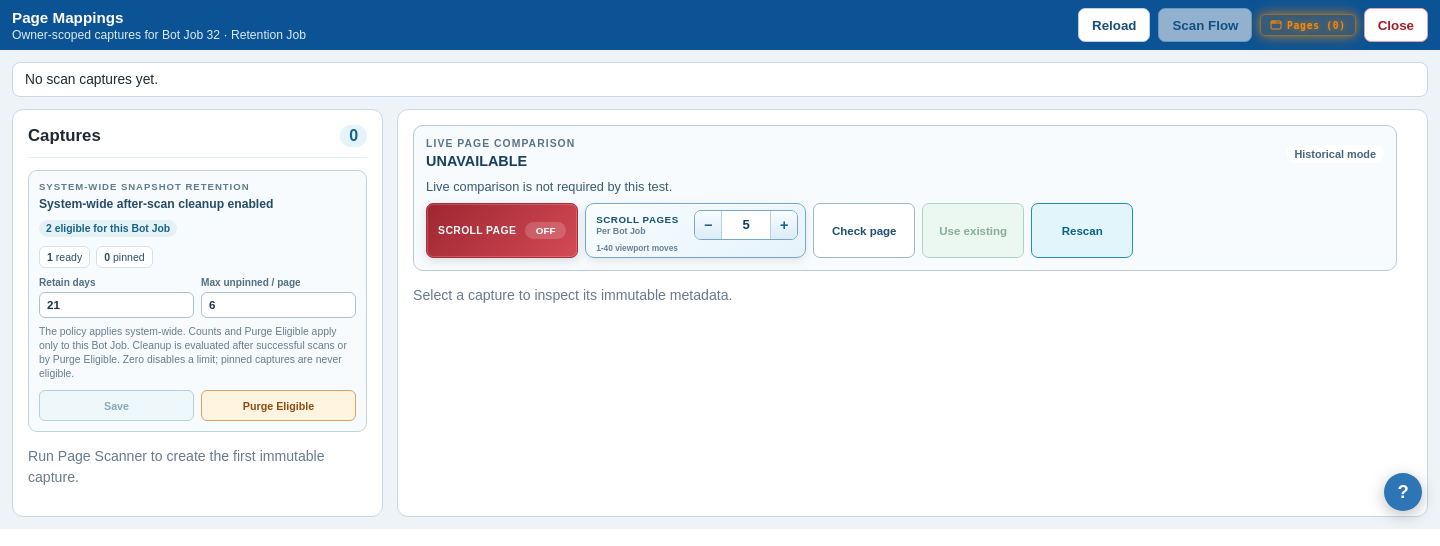
Test case: requires confirmation and sends the authoritative expected policy when purging
Expected: the button "Reload" is enabled, [1078,8,1150,42]
Click the button "Purge Eligible" at (279, 406), box [201,390,356,421]
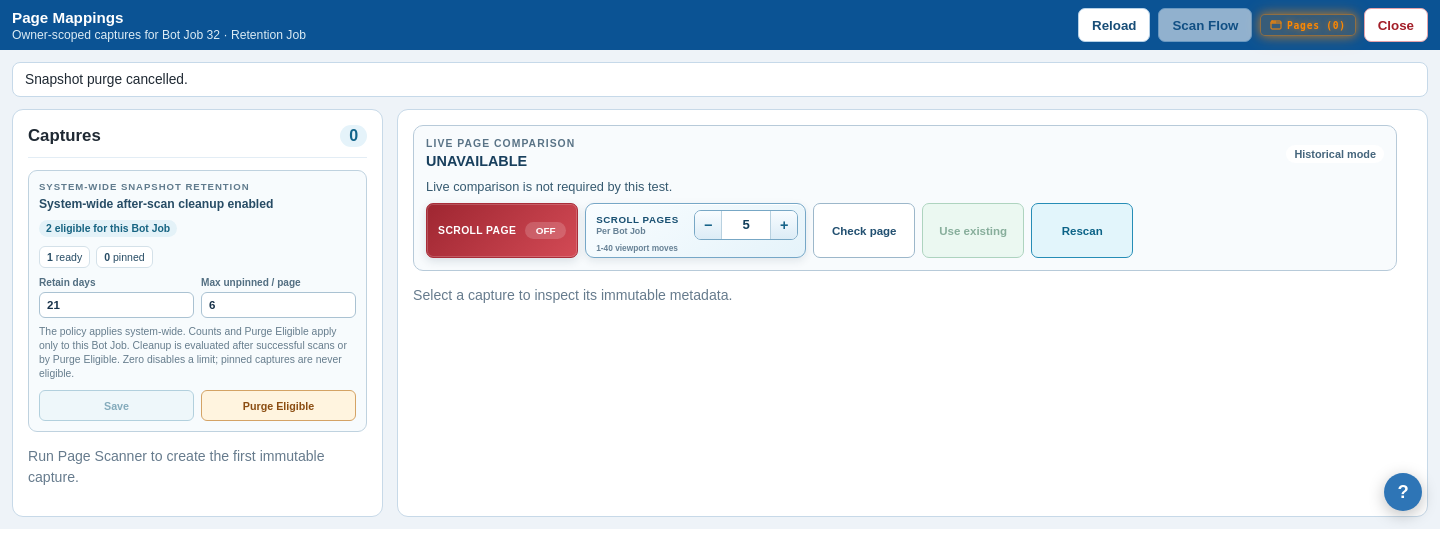
Result: the message reads "Snapshot purge cancelled." at [25,72,188,87]
Click the button "Purge Eligible" at (279, 406), box [201,390,356,421]
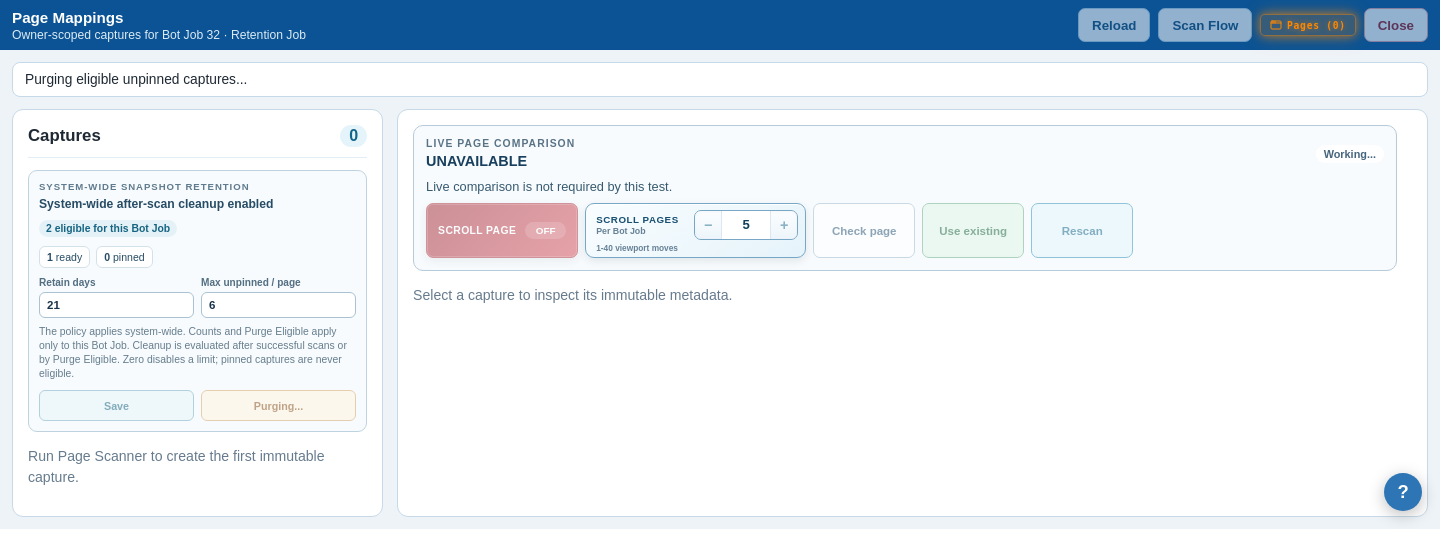
Result: the button "Purging..." is disabled at [201,390,356,421]
